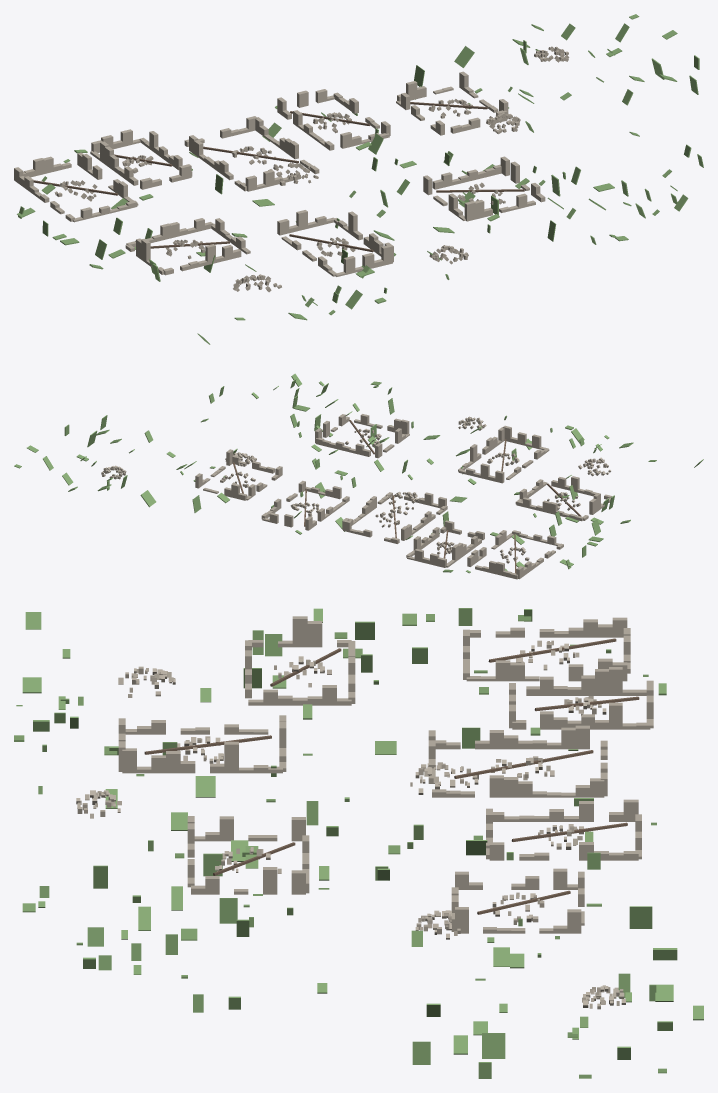
The model's file is guasto.glb.
3 renders of one model, top to bottom at view 1: azimuth 30°, elevation 25°; view 2: azimuth 150°, elevation 25°; view 3: azimuth 270°, elevation 25°, orthographic. The views are drawn at different scales.
Parts seen in each view (by area): view 1: guasto; view 2: guasto; view 3: guasto.
Part boxes in pixels (<box>): guasto: <box>14,14,703,344</box>; guasto: <box>14,373,703,579</box>; guasto: <box>14,608,703,1078</box>.
Size of the model in its own units: 96.5 by 3.93 by 60.12.
